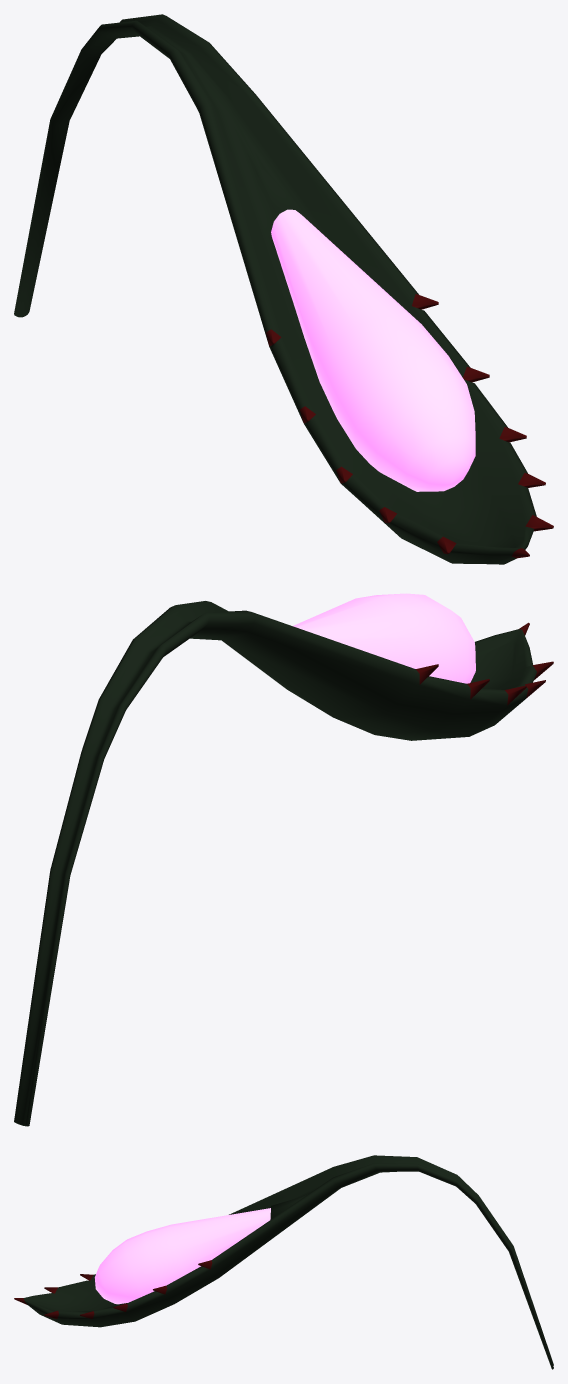
The model's file is Plant_06_LP.FBX.
3 renders of one model, top to bottom at view 1: azimuth 30°, elevation 25°; view 2: azimuth 150°, elevation 25°; view 3: azimuth 270°, elevation 25°, orthographic. The views are drawn at different scales.
Visible parts, largest first — view 1: Plant_06_LP; view 2: Plant_06_LP; view 3: Plant_06_LP.
Boxes of the visible parts, left/top/right/bottom form: Plant_06_LP: left=14, top=14, right=553, bottom=564; Plant_06_LP: left=14, top=593, right=553, bottom=1126; Plant_06_LP: left=14, top=1155, right=553, bottom=1369.
Bounding box in the file's own units: 79.35 × 382 × 164.
